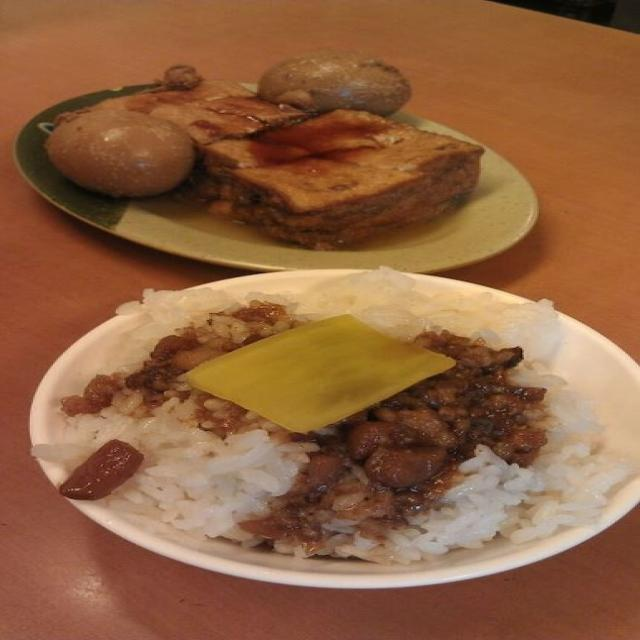猪肉菜式: (53, 268, 625, 586)
